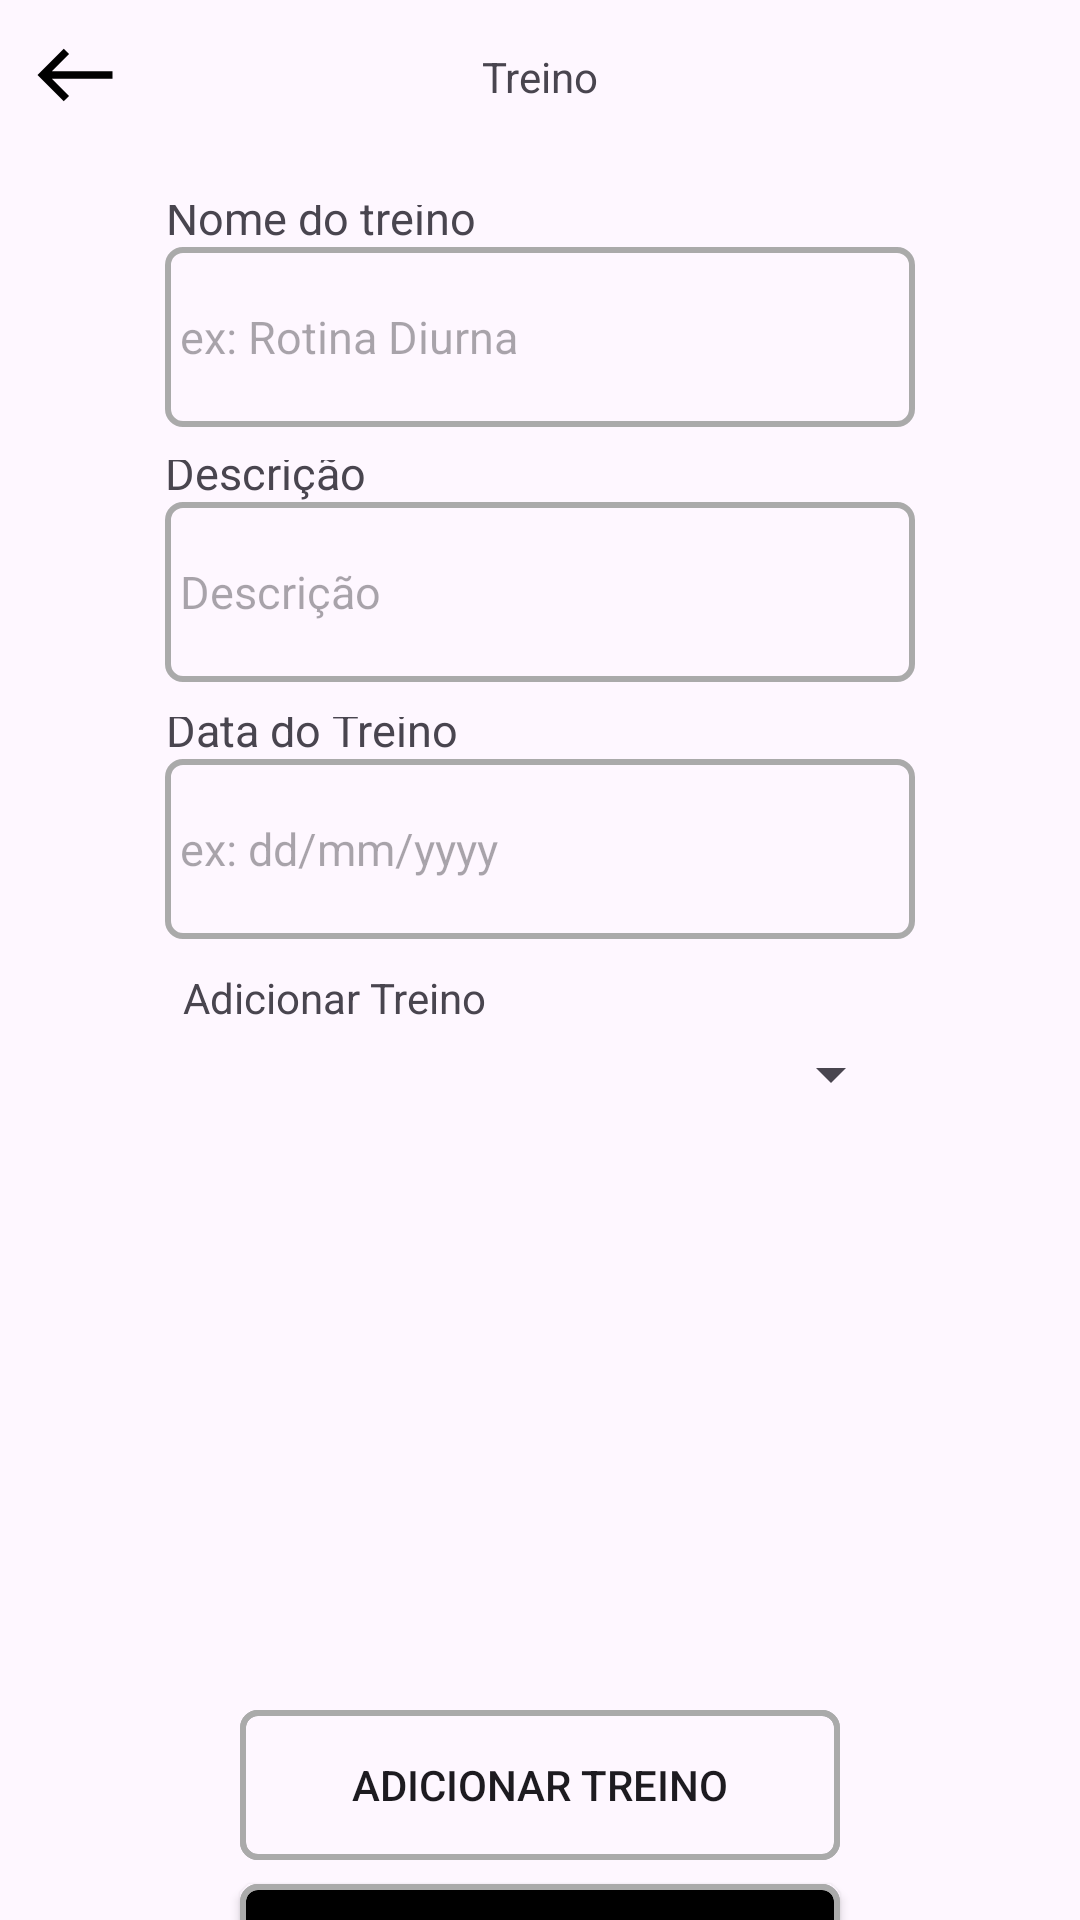

Icon bounding boxes for this 1080*1920 phone screenshot, format (x1=x1, y1=y1, x2=x2, y2=y2):
west: (x1=37, y1=49, x2=113, y2=101)
